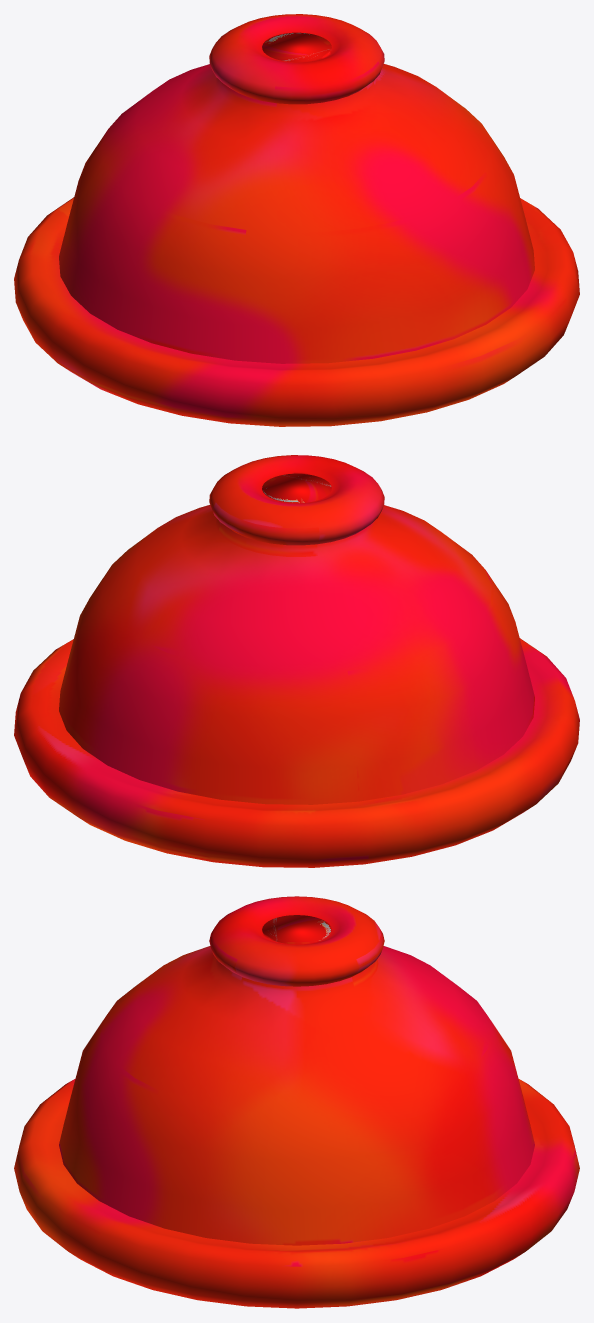
Rendered from plungerhead_centered.fbx.
3 views of the same model, one above another, from view 1: azimuth 30°, elevation 25°; view 2: azimuth 150°, elevation 25°; view 3: azimuth 270°, elevation 25° (orthographic).
Visible parts, largest first — view 1: Plunger; view 2: Plunger; view 3: Plunger.
Part boxes in pixels (<box>): Plunger: <box>14,14,579,426</box>; Plunger: <box>14,455,579,867</box>; Plunger: <box>14,896,579,1308</box>.
Size of the model in its own units: 3856 by 2073 by 3856.
Materials: 1 (1 with a texture image).
